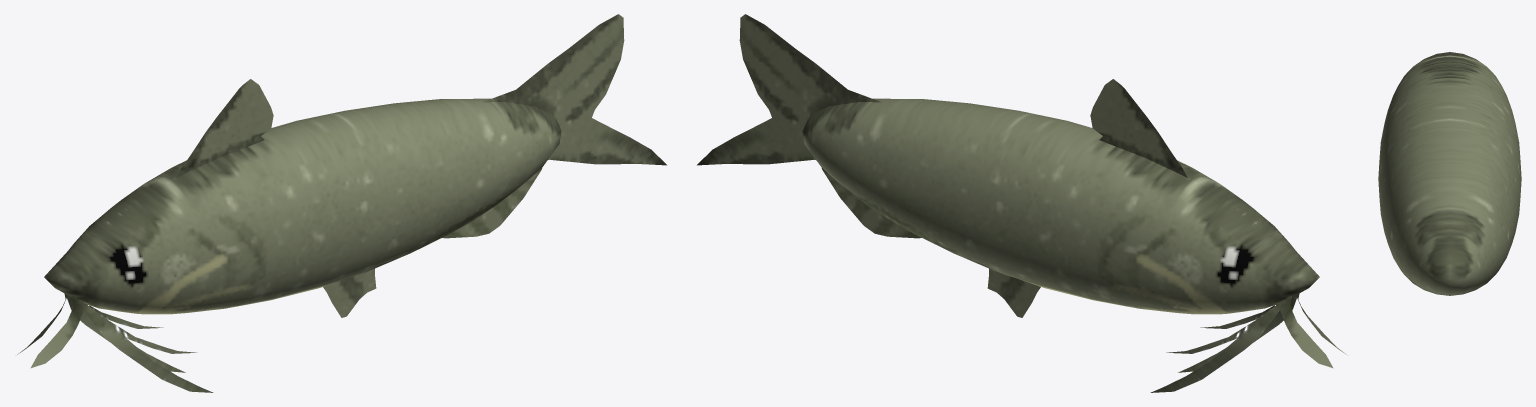
The model's file is catfish.fbx.
The picture shows the model from 3 angles, left to right: view 1: azimuth 30°, elevation 25°; view 2: azimuth 150°, elevation 25°; view 3: azimuth 270°, elevation 25°; orthographic projection. The views are drawn at different scales.
Visible parts, largest first — view 1: Cube, Plane.004, Plane, Plane.001, Plane.002; view 2: Cube, Plane.004, Plane, Plane.001, Plane.002; view 3: Cube.
Boxes of the visible parts, x1,y1,x2,y2 form: Cube: (44,98,561,314); Plane.004: (442,14,666,238); Plane: (17,293,213,392); Plane.001: (176,79,273,177); Plane.002: (323,268,376,317); Cube: (802,98,1319,314); Plane.004: (697,14,921,238); Plane: (1150,293,1346,392); Plane.001: (1090,79,1187,177); Plane.002: (987,268,1040,317); Cube: (1378,52,1521,295).
Size of the model in its own units: 442 by 191 by 87.93.
Materials: 1 (1 with a texture image).
